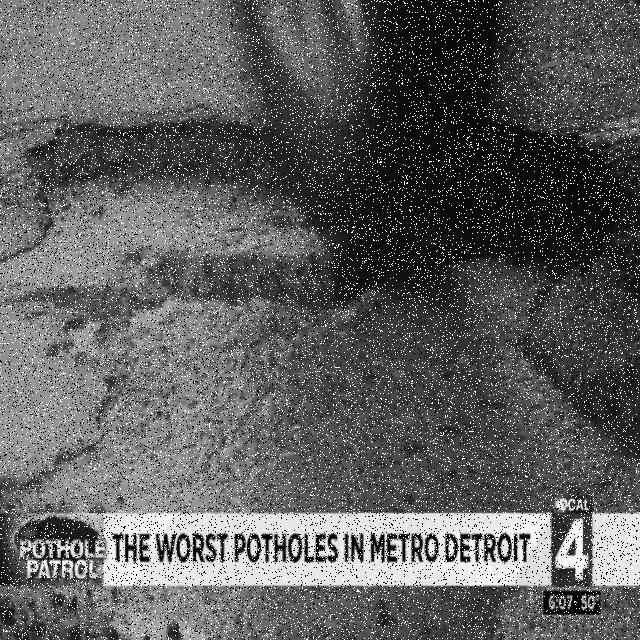pothole: (0, 95, 637, 510)
